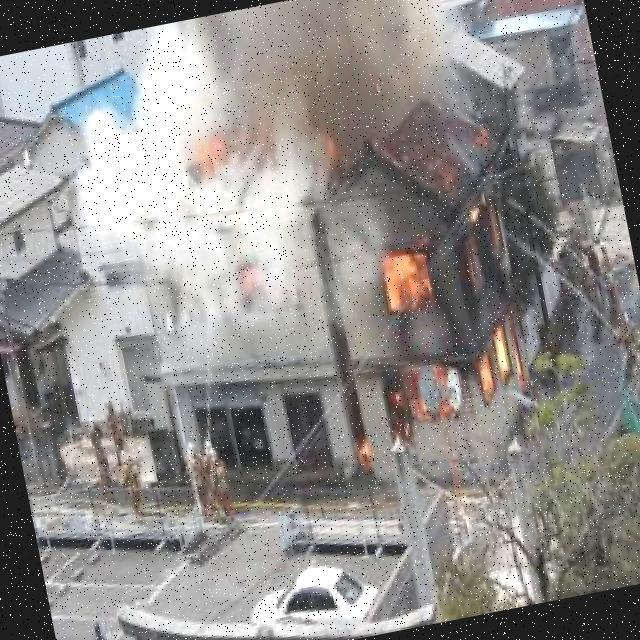Fire: (295, 185, 562, 491)
